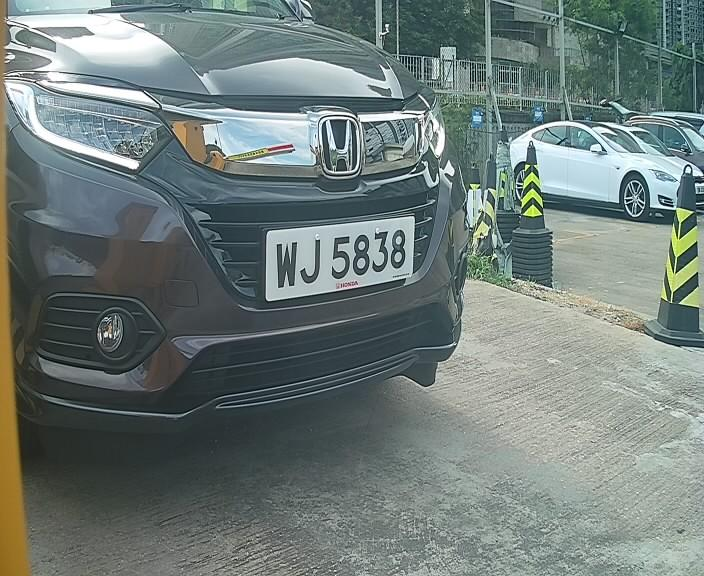License Plate: (261, 206, 418, 309)
